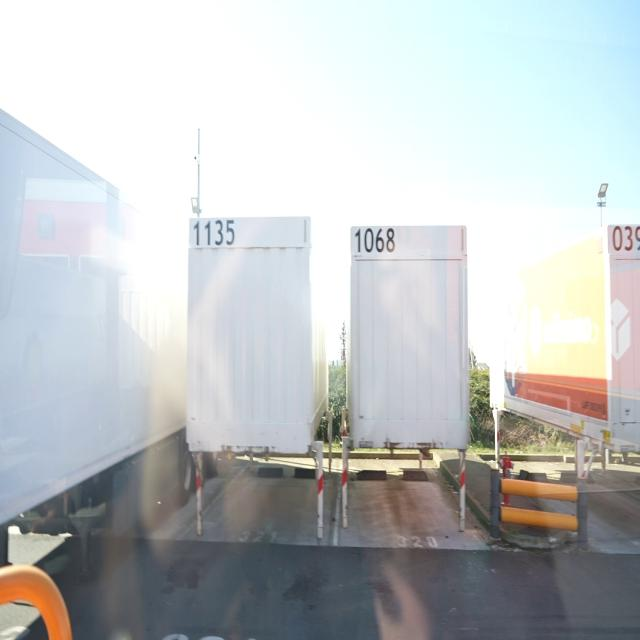Code: (352, 220, 398, 266), (191, 213, 239, 253)
